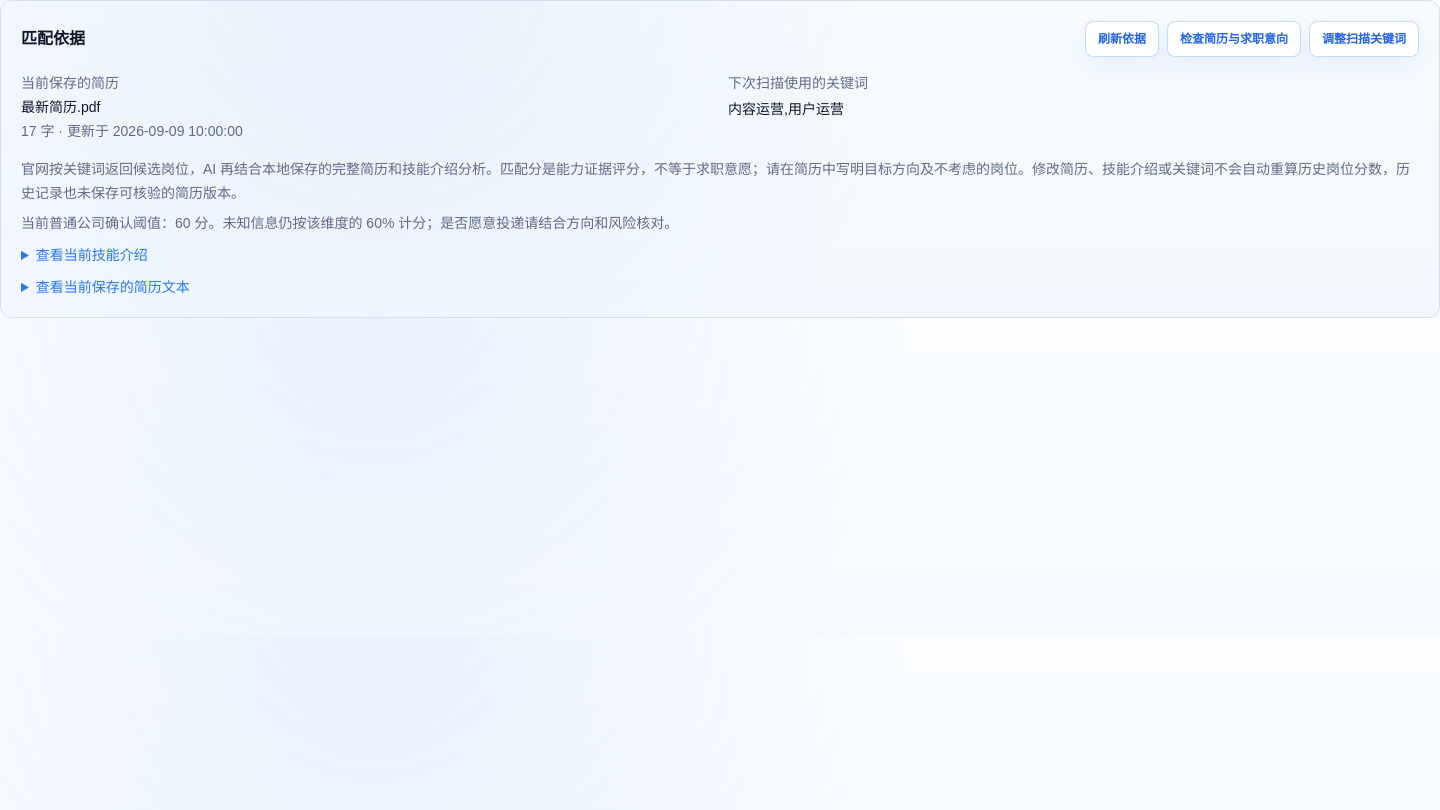
Test case: 显示当前档案已保存简历及扫描关键词，明确历史分数不会自动重算
Expected: the text "最新简历.pdf" is shown, 21,99 -> 100,115
Expected: the text "内容运营,用户运营" is shown, 728,101 -> 844,117
Click the heading "查看当前保存的简历文本". click: [113, 287]
box: 36,279 -> 190,295
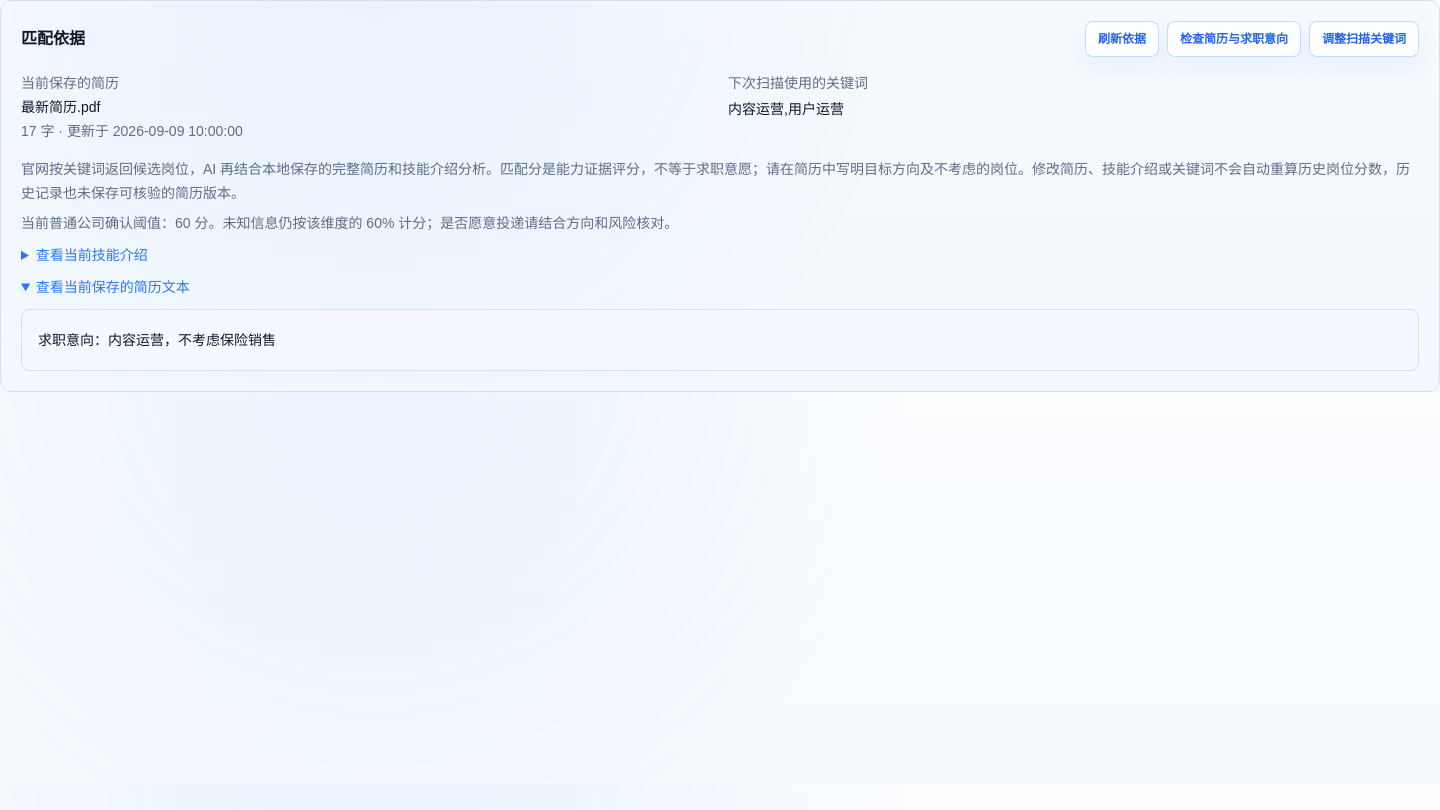
Now the text "求职意向：内容运营，不考虑保险销售" is shown, box 21,309 -> 1419,371
